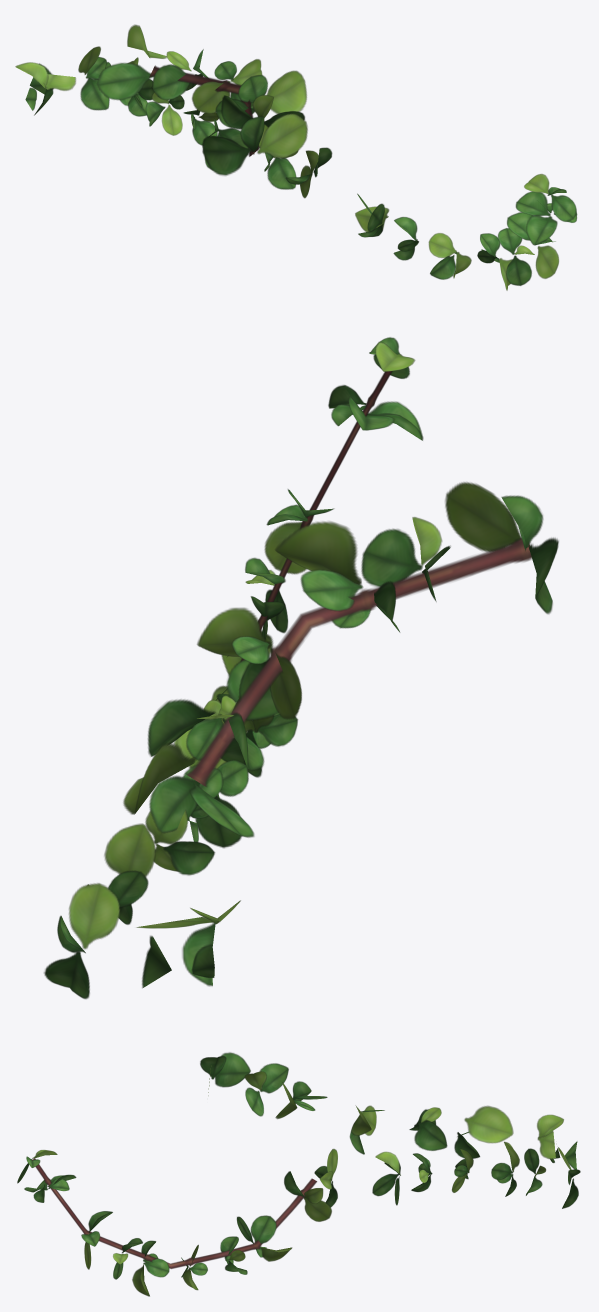
Rendered from ivy-2.glb.
3 views of the same model, one above another, from view 1: azimuth 30°, elevation 25°; view 2: azimuth 150°, elevation 25°; view 3: azimuth 270°, elevation 25° (orthographic). The views are drawn at different scales.
Parts seen in each view (by area): view 1: Plant02; view 2: Plant02; view 3: Plant02.
Boxes of the visible parts, left/top/right/bottom form: Plant02: left=15, top=24, right=577, bottom=290; Plant02: left=44, top=337, right=558, bottom=999; Plant02: left=17, top=1052, right=580, bottom=1296.
Size of the model in its own units: 0.199 by 0.1418 by 0.4205.
Materials: 1 (1 with a texture image).
